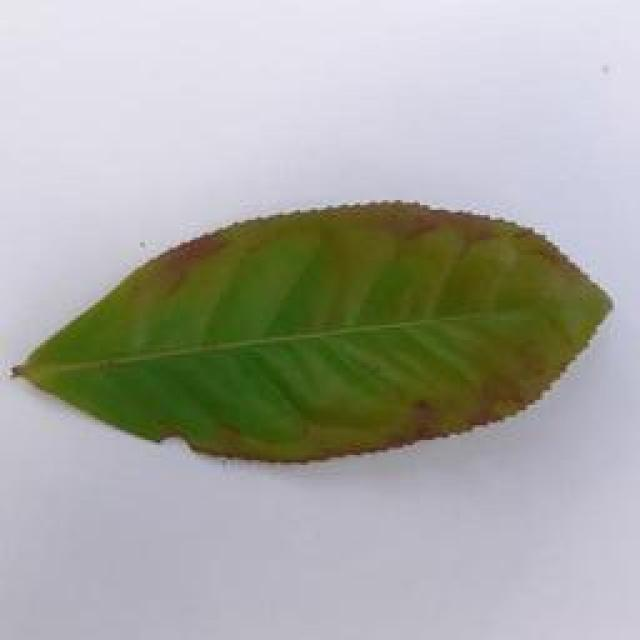Red Leaf Spot: (4, 193, 638, 474)
